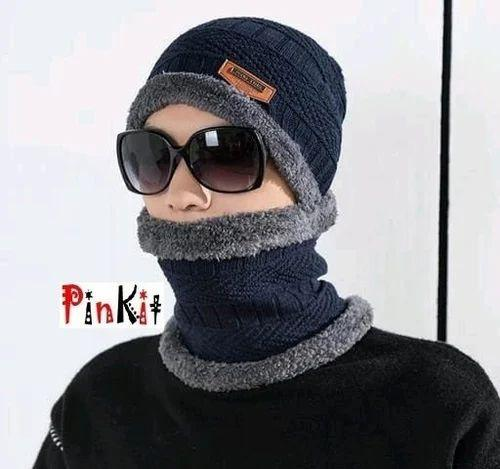cap: (121, 11, 355, 193)
scarf-kerchief: (128, 189, 379, 398)
sunglasses: (95, 118, 275, 218)
